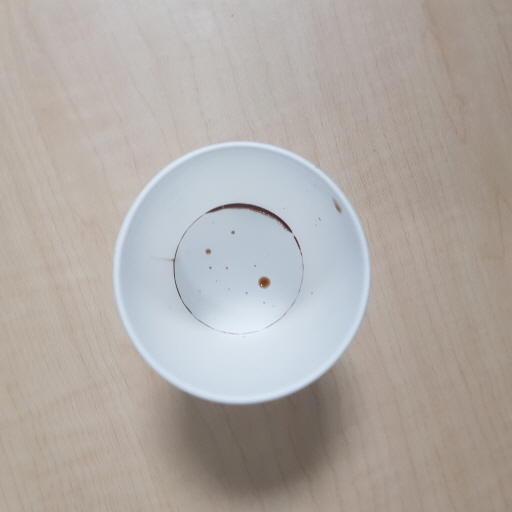Paper_1: (110, 143, 374, 405)
